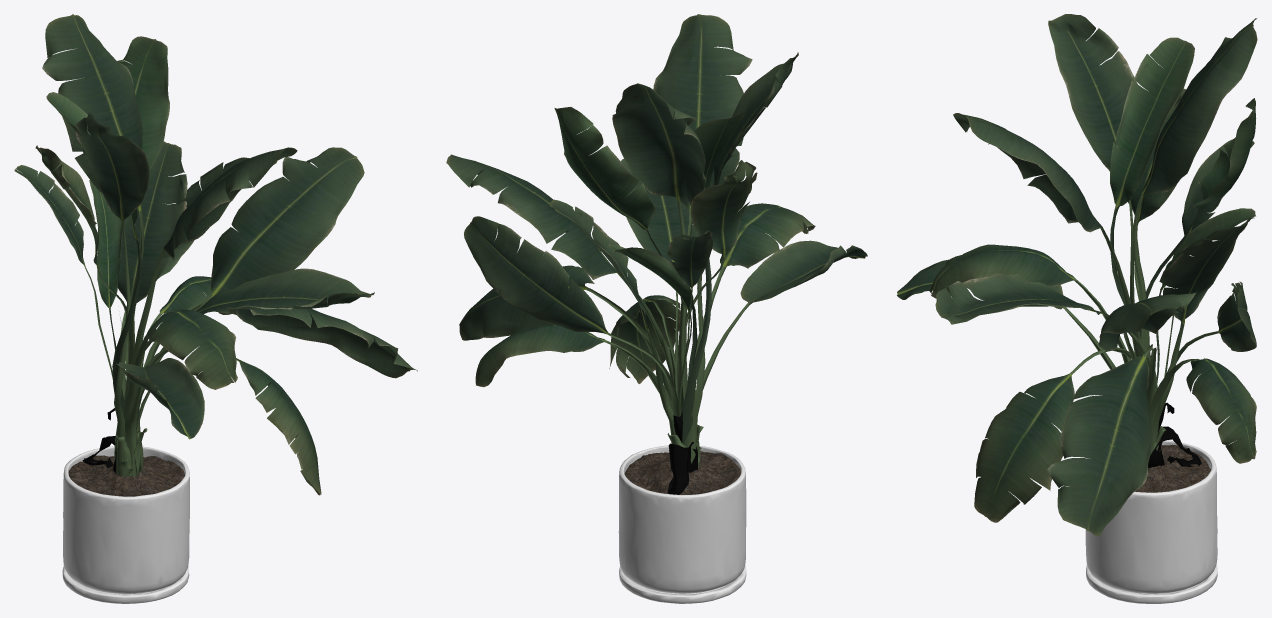
File: conpany161.gltf
3 views of the same model, side by side, from view 1: azimuth 30°, elevation 25°; view 2: azimuth 150°, elevation 25°; view 3: azimuth 270°, elevation 25° (orthographic). The views are drawn at different scales.
Visible parts, largest first — view 1: G-ant_01_1, G-ant_01_7, G-ant_01_2, G-ant_01_3, G-ant_01_5, G-ant_01_8, G-ant_01_6; view 2: G-ant_01_1, G-ant_01_7, G-ant_01_2, G-ant_01_3, G-ant_01_5, G-ant_01_8, G-ant_01_6, G-ant_01_4; view 3: G-ant_01_1, G-ant_01_2, G-ant_01_7, G-ant_01_3, G-ant_01_5, G-ant_01_8, G-ant_01_4, G-ant_01_6.
Boxes of the visible parts, bbox=[...] form: G-ant_01_1: bbox=[14, 14, 417, 439]; G-ant_01_7: bbox=[62, 446, 189, 603]; G-ant_01_2: bbox=[35, 145, 321, 495]; G-ant_01_3: bbox=[46, 36, 169, 308]; G-ant_01_5: bbox=[85, 210, 236, 476]; G-ant_01_8: bbox=[68, 455, 184, 496]; G-ant_01_6: bbox=[109, 238, 141, 421]; G-ant_01_1: bbox=[446, 14, 867, 340]; G-ant_01_7: bbox=[618, 445, 746, 603]; G-ant_01_2: bbox=[475, 160, 815, 387]; G-ant_01_3: bbox=[554, 107, 744, 312]; G-ant_01_5: bbox=[586, 198, 749, 468]; G-ant_01_8: bbox=[624, 451, 740, 494]; G-ant_01_6: bbox=[646, 230, 711, 444]; G-ant_01_4: bbox=[667, 412, 697, 494]; G-ant_01_1: bbox=[897, 14, 1257, 536]; G-ant_01_2: bbox=[929, 88, 1256, 522]; G-ant_01_7: bbox=[1085, 440, 1217, 603]; G-ant_01_3: bbox=[1110, 37, 1256, 290]; G-ant_01_5: bbox=[1063, 194, 1218, 464]; G-ant_01_8: bbox=[1135, 445, 1210, 492]; G-ant_01_4: bbox=[1148, 402, 1201, 467]; G-ant_01_6: bbox=[1110, 205, 1199, 382].
Size of the model in its own units: 9.07 by 14.13 by 8.39.
8 materials, 8 textured.
